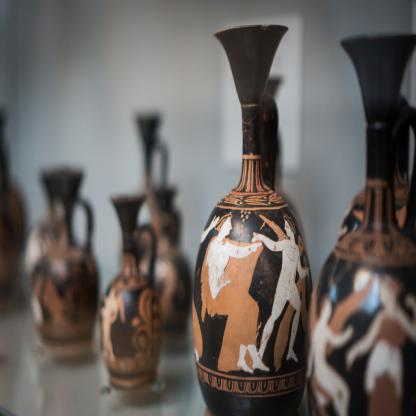vase: (190, 21, 314, 416), (308, 31, 416, 412), (31, 164, 101, 358), (98, 192, 164, 391)
